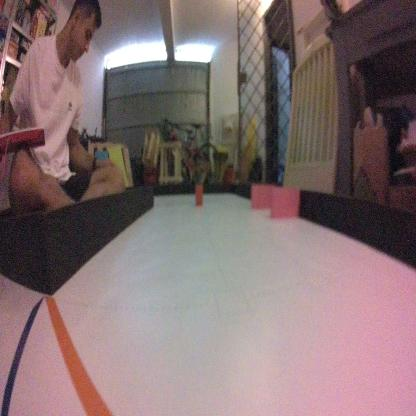magenta: (268, 186, 298, 220), (250, 180, 273, 212)
red: (193, 182, 203, 207)
